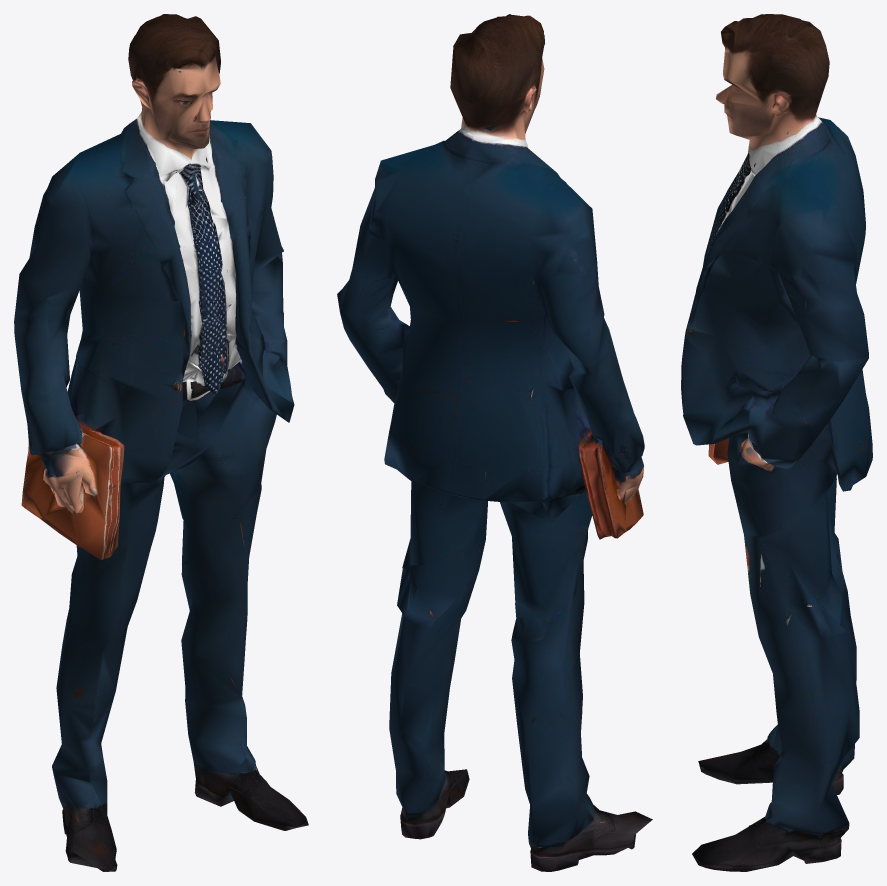
The model's file is male_worker.glb.
The picture shows the model from 3 angles, left to right: view 1: azimuth 30°, elevation 25°; view 2: azimuth 150°, elevation 25°; view 3: azimuth 270°, elevation 25°; orthographic projection.
Bounding box in the file's own units: 0.6706 × 1.9 × 0.4086.
Materials: 1 (1 with a texture image).
